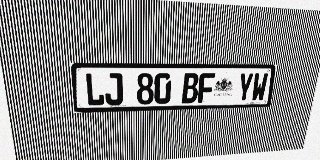0: (154, 73, 171, 104)
8: (137, 73, 154, 105)
B: (182, 73, 199, 103)
F: (198, 73, 215, 103)
J: (104, 73, 123, 106)
L: (85, 73, 105, 106)
W: (251, 73, 268, 101)
Y: (236, 73, 254, 102)
